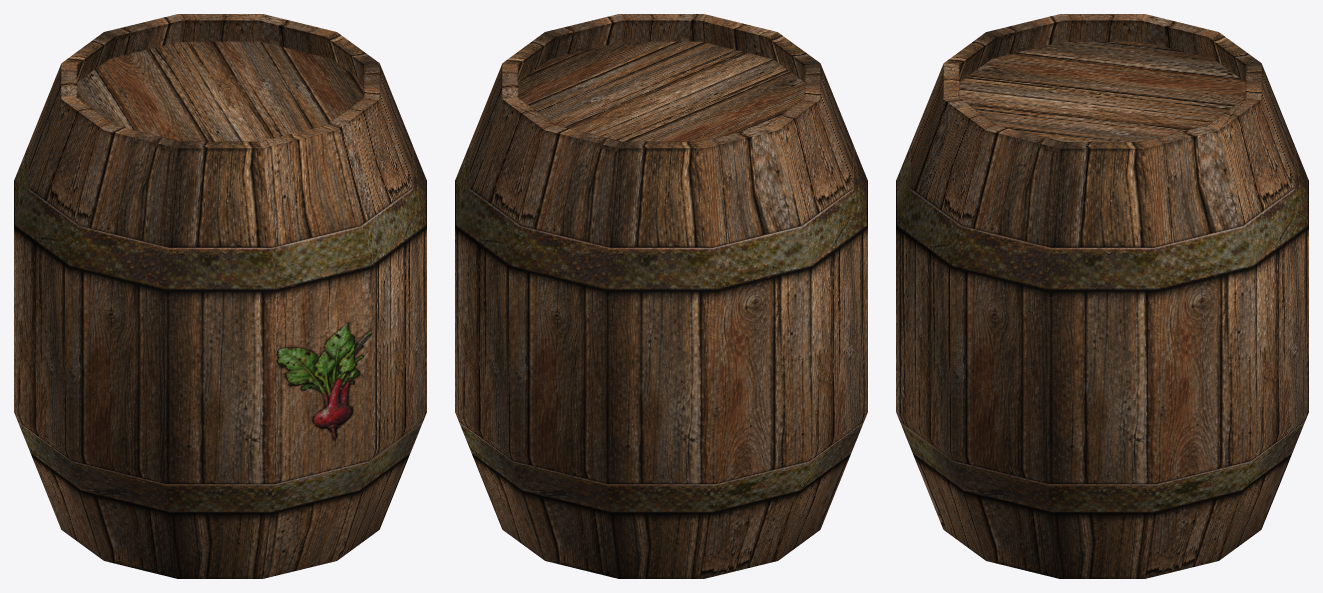
File: mm9_deco_barrelbeet.glb
3 views of the same model, side by side, from view 1: azimuth 30°, elevation 25°; view 2: azimuth 150°, elevation 25°; view 3: azimuth 270°, elevation 25° (orthographic).
Parts seen in each view (by area): view 1: Barrelbeet; view 2: Barrelbeet; view 3: Barrelbeet.
Part boxes in pixels (bbox=[...]): Barrelbeet: bbox=[14, 14, 426, 578]; Barrelbeet: bbox=[455, 14, 867, 578]; Barrelbeet: bbox=[896, 14, 1308, 578].
Size of the model in its own units: 0.8716 by 1 by 0.8716.
1 material, 1 textured.
